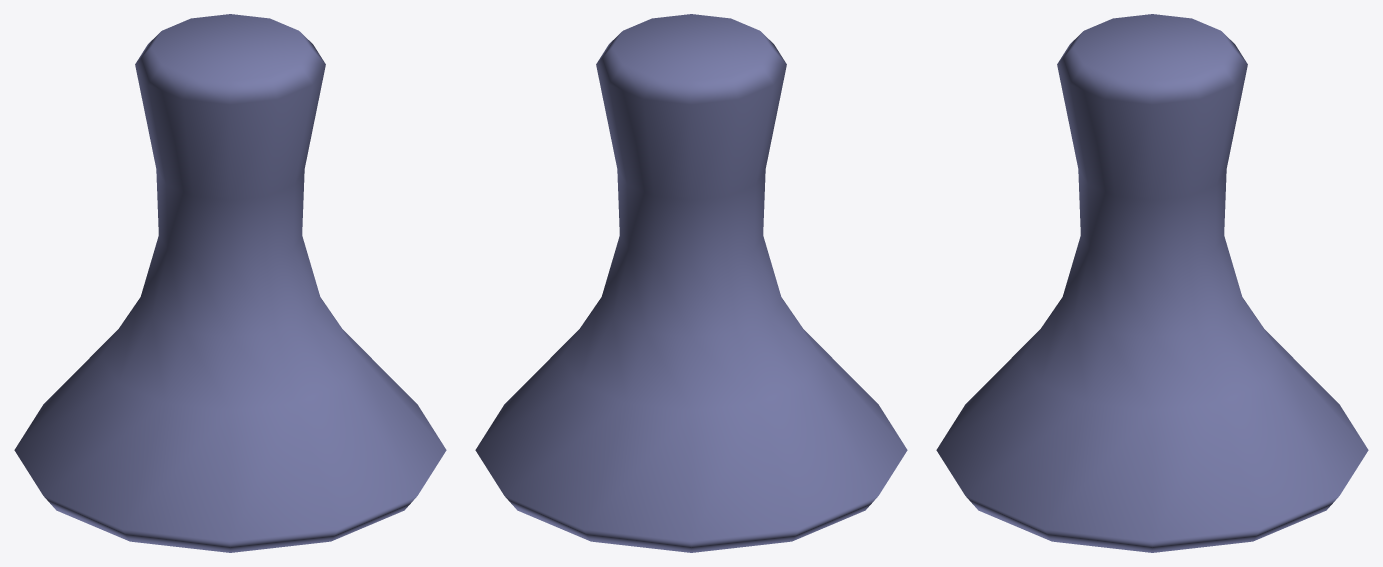
The model's file is Decoration_4.glb.
3 renders of one model, left to right at view 1: azimuth 30°, elevation 25°; view 2: azimuth 150°, elevation 25°; view 3: azimuth 270°, elevation 25°, orthographic.
Visible parts, largest first — view 1: Decoration_4; view 2: Decoration_4; view 3: Decoration_4.
Boxes of the visible parts, x1=… form: Decoration_4: x1=14, y1=14, x2=446, y2=552; Decoration_4: x1=475, y1=14, x2=907, y2=552; Decoration_4: x1=936, y1=14, x2=1368, y2=552.
Size of the model in its own units: 0.1909 by 0.2049 by 0.1909.
1 material, 1 textured.
